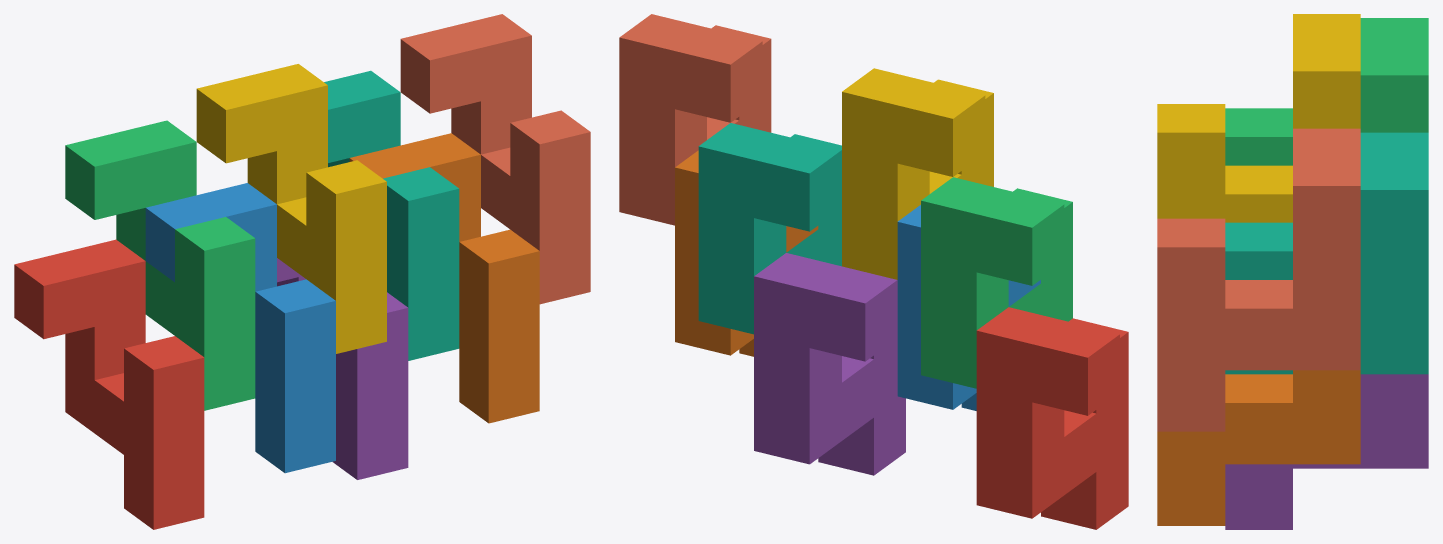
File: tiling.obj
3 renders of one model, left to right at view 1: azimuth 30°, elevation 25°; view 2: azimuth 150°, elevation 25°; view 3: azimuth 270°, elevation 25°, orthographic. The views are drawn at different scales.
Visible parts, largest first — view 1: copy_1_domain_1, copy_1_domain_8, copy_1_domain_4, copy_1_domain_3, copy_1_domain_2, copy_1_domain_6, copy_1_domain_7, copy_1_domain_5; view 2: copy_1_domain_1, copy_1_domain_5, copy_1_domain_3, copy_1_domain_7, copy_1_domain_8, copy_1_domain_4, copy_1_domain_2, copy_1_domain_6; view 3: copy_1_domain_8, copy_1_domain_7, copy_1_domain_4, copy_1_domain_6, copy_1_domain_3, copy_1_domain_5.
Boxes of the visible parts, x1,y1,x2,y2 form: copy_1_domain_1: (14, 239, 204, 529); copy_1_domain_8: (400, 14, 590, 304); copy_1_domain_4: (196, 64, 386, 353); copy_1_domain_3: (65, 120, 255, 410); copy_1_domain_2: (145, 183, 335, 473); copy_1_domain_6: (349, 133, 539, 423); copy_1_domain_7: (324, 70, 459, 360); copy_1_domain_5: (277, 258, 408, 479); copy_1_domain_1: (976, 307, 1128, 529); copy_1_domain_5: (754, 253, 905, 475); copy_1_domain_3: (921, 177, 1072, 388); copy_1_domain_7: (698, 123, 841, 334); copy_1_domain_8: (619, 14, 771, 225); copy_1_domain_4: (842, 68, 993, 279); copy_1_domain_2: (897, 205, 1040, 410); copy_1_domain_6: (675, 150, 818, 356); copy_1_domain_8: (1157, 128, 1360, 431); copy_1_domain_7: (1225, 132, 1428, 374); copy_1_domain_4: (1157, 14, 1360, 222); copy_1_domain_6: (1157, 370, 1360, 525); copy_1_domain_3: (1225, 18, 1428, 165); copy_1_domain_5: (1225, 374, 1428, 529).
Bounding box in the file's own units: 9 × 7 × 4.
